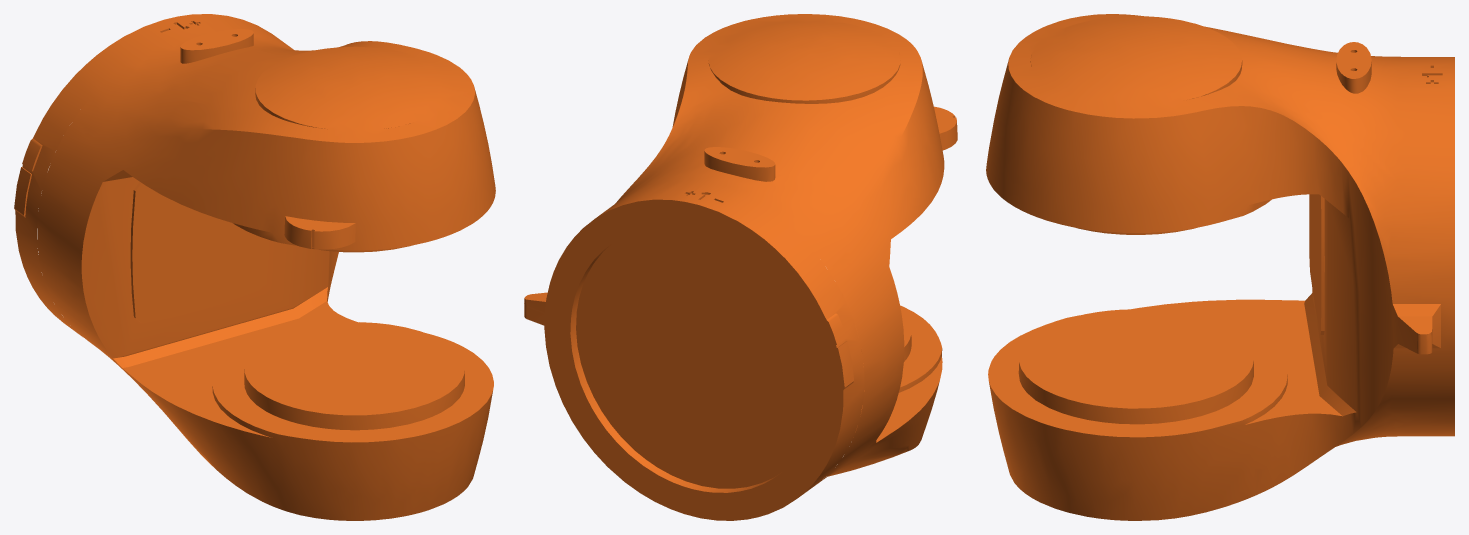
3 renders of one model, left to right at view 1: azimuth 30°, elevation 25°; view 2: azimuth 150°, elevation 25°; view 3: azimuth 270°, elevation 25°, orthographic. The views are drawn at different scales.
Parts seen in each view (by area): view 1: /link_1/link_1-mesh/0; view 2: /link_1/link_1-mesh/0; view 3: /link_1/link_1-mesh/0.
Part boxes in pixels (x1=…): /link_1/link_1-mesh/0: x1=14, y1=14, x2=495, y2=520; /link_1/link_1-mesh/0: x1=524, y1=14, x2=957, y2=520; /link_1/link_1-mesh/0: x1=986, y1=14, x2=1454, y2=520.
Size of the model in its own units: 0.2429 by 0.276 by 0.2694.
